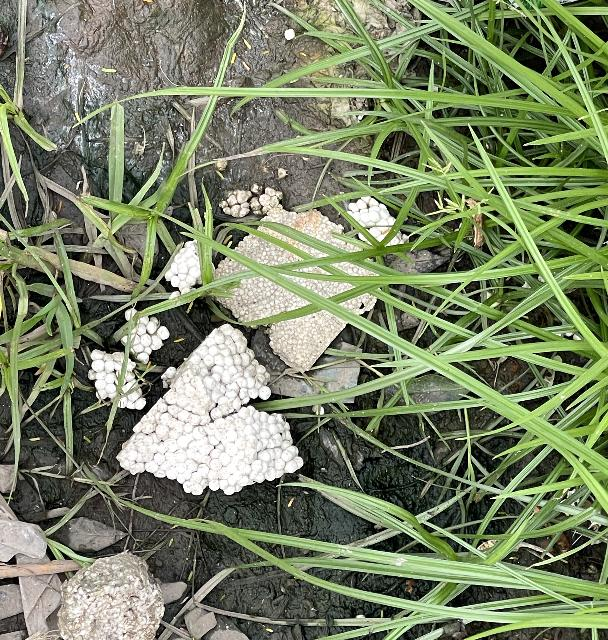cocksheet: (93, 321, 301, 537), (197, 168, 400, 370), (58, 557, 167, 640)
